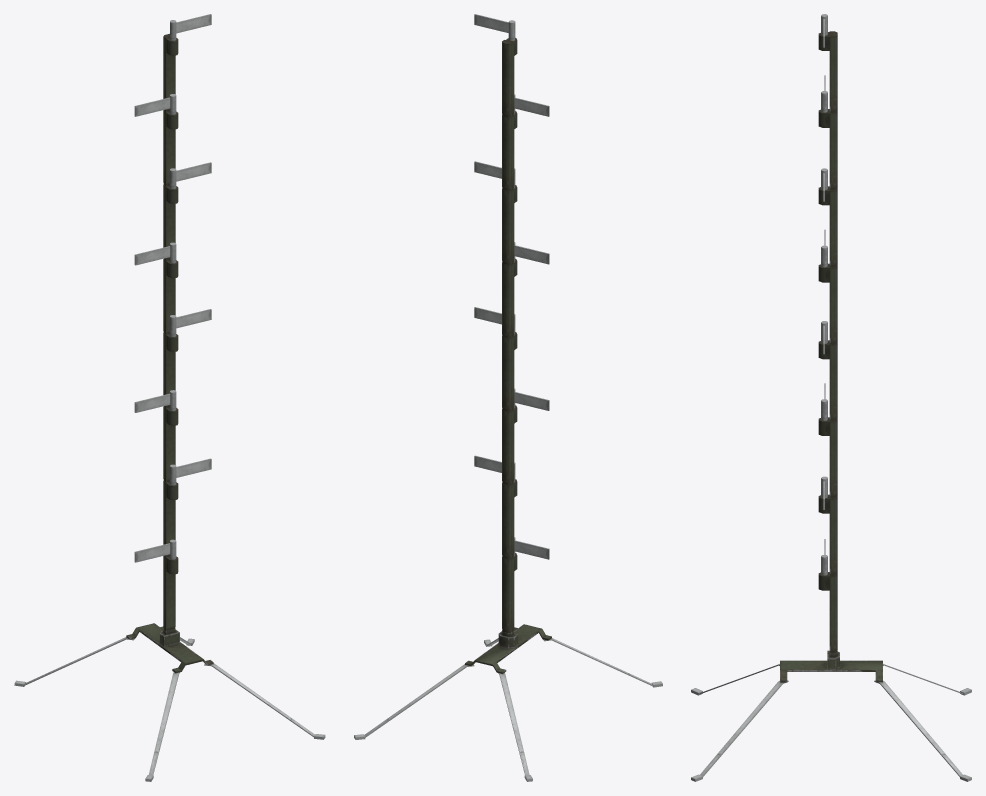
Rendered from TgtTargetStandA2.fbx.
3 renders of one model, left to right at view 1: azimuth 30°, elevation 25°; view 2: azimuth 150°, elevation 25°; view 3: azimuth 270°, elevation 25°, orthographic. The views are drawn at different scales.
Parts seen in each view (by area): view 1: TgtTargetStandA2, TgtTargetStandA2ArmA5, TgtTargetStandA2ArmA3, TgtTargetStandA2ArmA7, TgtTargetStandA2ArmA4, TgtTargetStandA2ArmA1, TgtTargetStandA2ArmA2, TgtTargetStandA2ArmA6, TgtTargetStandA2ArmA8; view 2: TgtTargetStandA2, TgtTargetStandA2ArmA8; view 3: TgtTargetStandA2.
Boxes of the visible parts, x1,y1,x2,y2 form: TgtTargetStandA2: (14, 33, 325, 781); TgtTargetStandA2ArmA5: (134, 242, 176, 265); TgtTargetStandA2ArmA3: (134, 390, 176, 412); TgtTargetStandA2ArmA7: (134, 94, 176, 116); TgtTargetStandA2ArmA4: (170, 309, 211, 336); TgtTargetStandA2ArmA1: (134, 539, 176, 562); TgtTargetStandA2ArmA2: (170, 458, 211, 485); TgtTargetStandA2ArmA6: (170, 162, 211, 188); TgtTargetStandA2ArmA8: (170, 14, 211, 40); TgtTargetStandA2: (354, 38, 662, 781); TgtTargetStandA2ArmA8: (474, 14, 515, 40); TgtTargetStandA2: (691, 31, 971, 781).
Size of the model in its own units: 51.53 by 189 by 66.86.
Materials: 1 (1 with a texture image).
